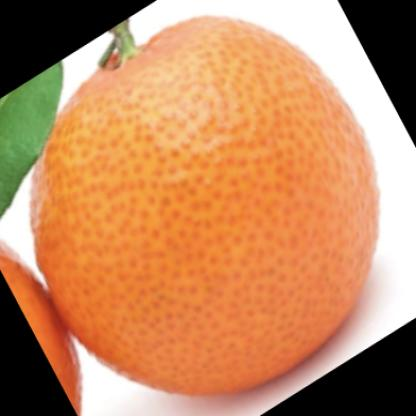fresh: (27, 16, 376, 391)
